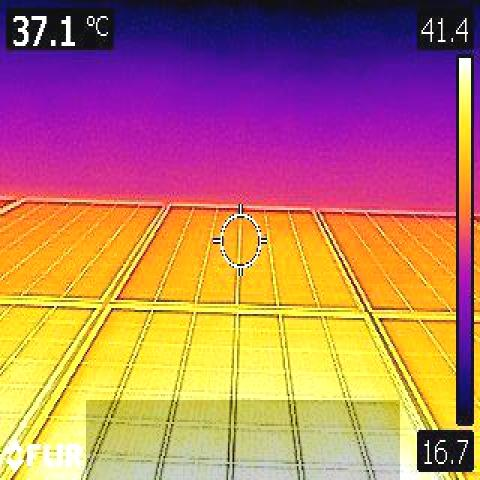fault: (86, 400, 400, 480)
